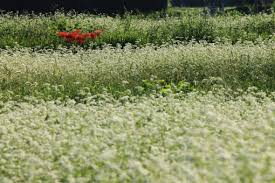field: (6, 12, 275, 182)
